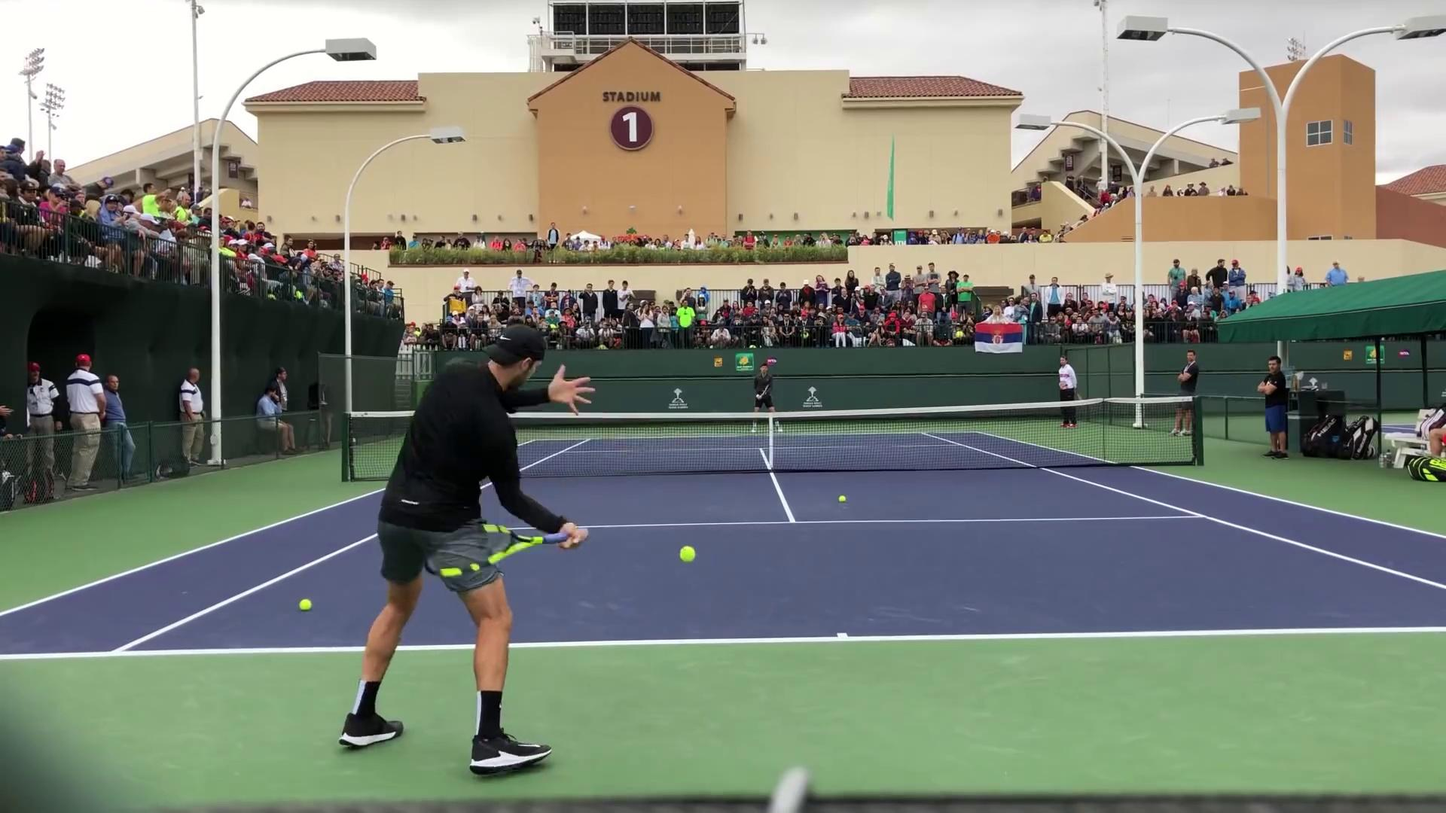ball: (678, 546, 700, 563), (296, 598, 314, 611), (837, 495, 847, 502)
